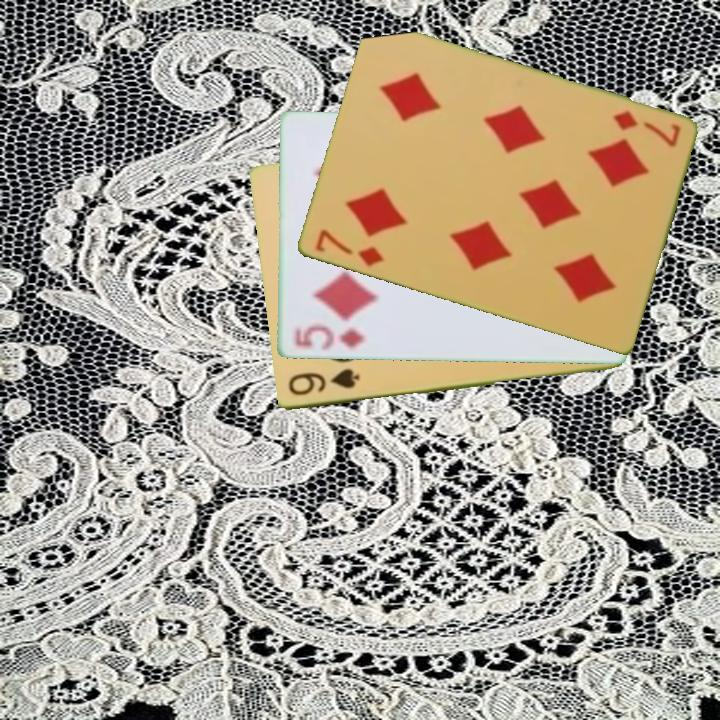5d: (291, 323, 367, 353)
7d: (311, 226, 387, 270), (608, 107, 683, 150)
9s: (284, 365, 362, 399)
